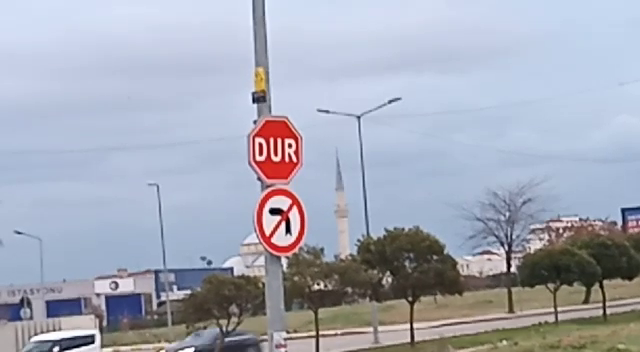no_left: (250, 183, 308, 258)
stop: (246, 114, 306, 186)
